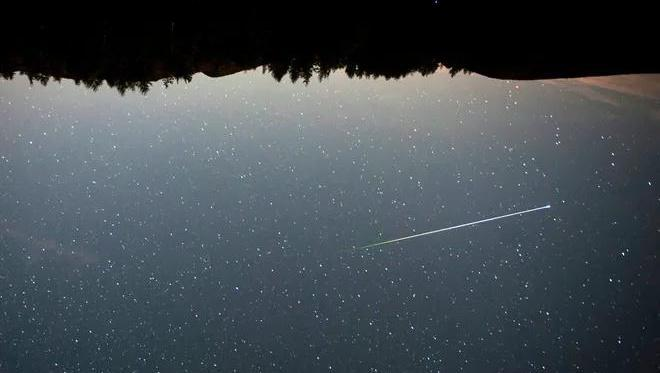meteorite: (349, 200, 564, 252)
